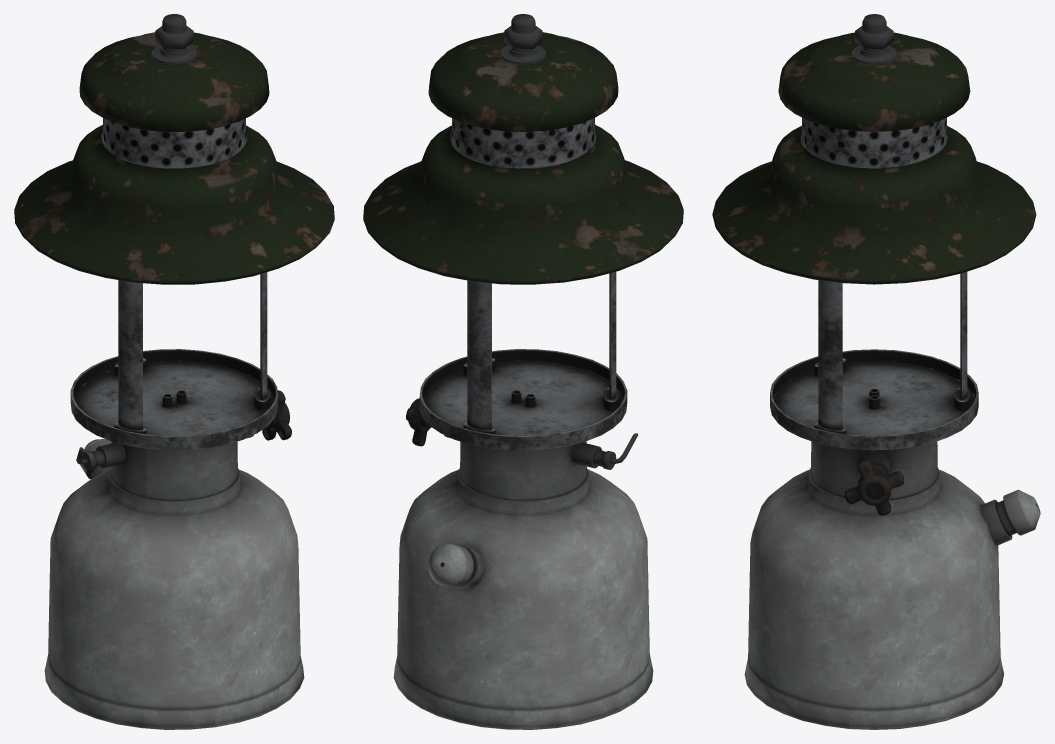
Rendered from Lamp_mdl.fbx.
3 renders of one model, left to right at view 1: azimuth 30°, elevation 25°; view 2: azimuth 150°, elevation 25°; view 3: azimuth 270°, elevation 25°, orthographic.
Visible parts, largest first — view 1: Lamp_mdl; view 2: Lamp_mdl; view 3: Lamp_mdl.
Boxes of the visible parts, box(x1,y1,x2,y2) form: Lamp_mdl: box(14, 14, 334, 729); Lamp_mdl: box(363, 14, 683, 729); Lamp_mdl: box(712, 14, 1040, 729).
Bounding box in the file's own units: 8.21 × 18.55 × 8.4.
1 material, 1 textured.
